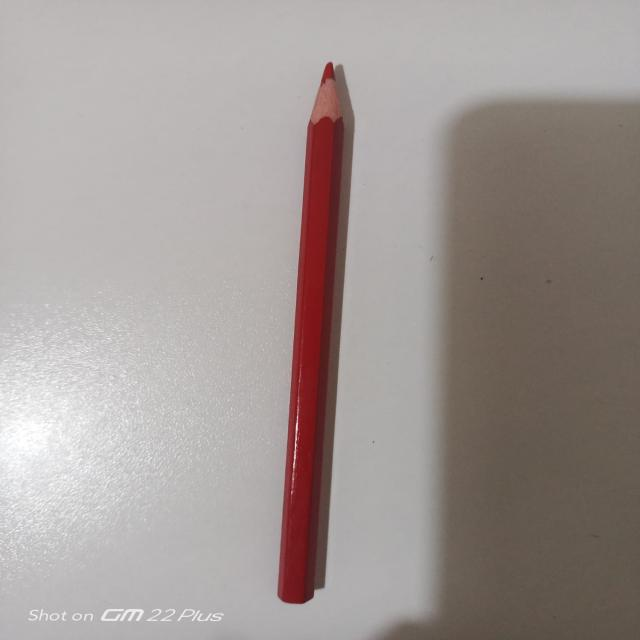pencil: (269, 65, 357, 610)
